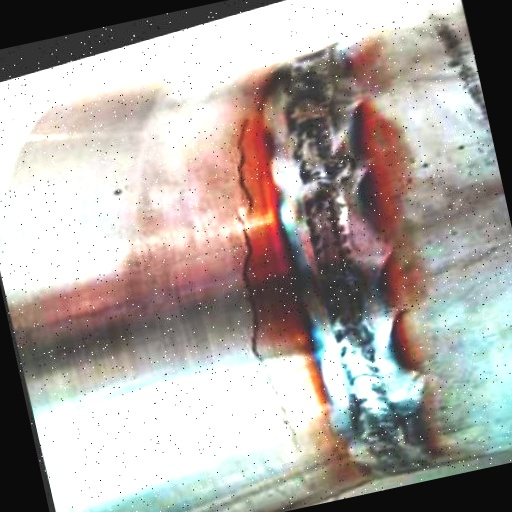crack: (173, 109, 327, 460)
